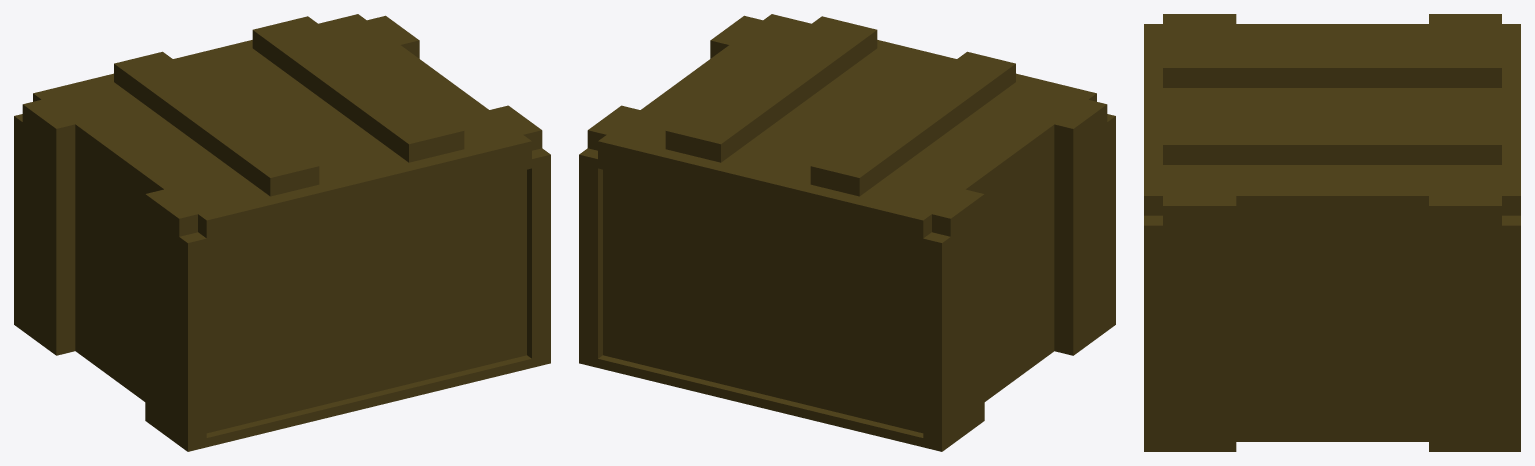
3 views of the same model, side by side, from view 1: azimuth 30°, elevation 25°; view 2: azimuth 150°, elevation 25°; view 3: azimuth 270°, elevation 25° (orthographic). The views are drawn at different scales.
Visible parts, largest first — view 1: pCube1; view 2: pCube1; view 3: pCube1.
Boxes of the visible parts, bbox=[...] form: pCube1: bbox=[14, 14, 550, 451]; pCube1: bbox=[579, 14, 1115, 451]; pCube1: bbox=[1144, 14, 1520, 451].
Size of the model in its own units: 66.17 by 42.72 by 54.86.
